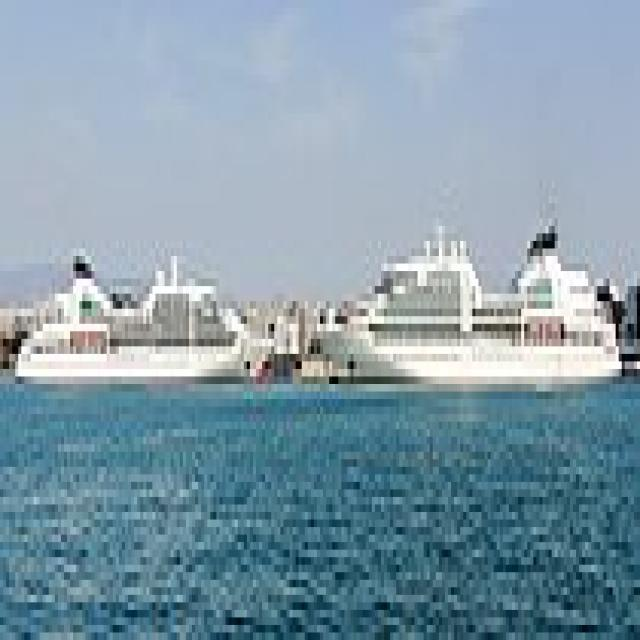Ship: (315, 204, 632, 400), (10, 235, 260, 400)
